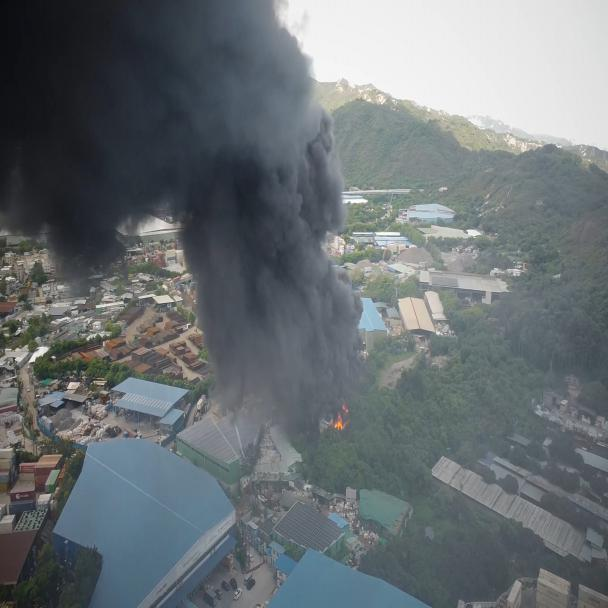Fire: (271, 338, 433, 471)
smoke: (0, 6, 349, 310)
